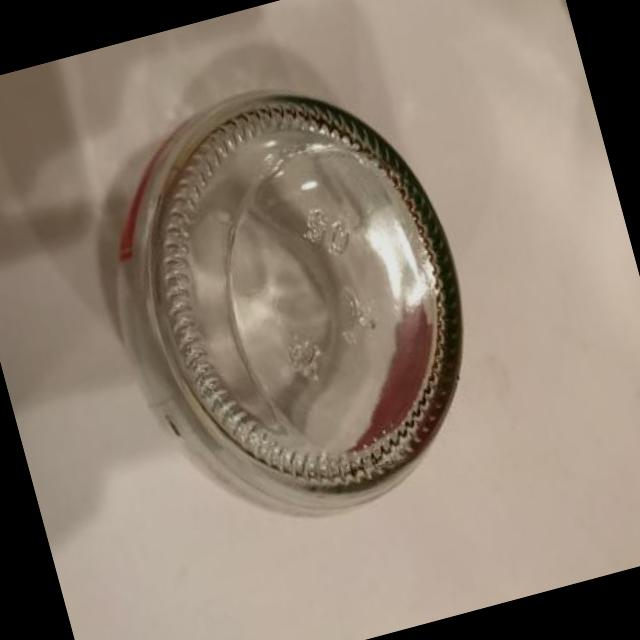chai_thuy_tinh: (100, 89, 462, 517)
